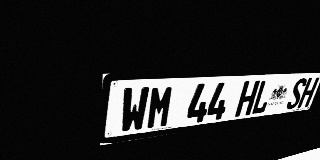4: (185, 83, 213, 124), (205, 82, 232, 121)
H: (234, 80, 260, 117), (297, 77, 320, 108)
L: (250, 80, 275, 115)
M: (146, 85, 175, 130)
S: (285, 78, 308, 110)
W: (119, 86, 150, 134)
